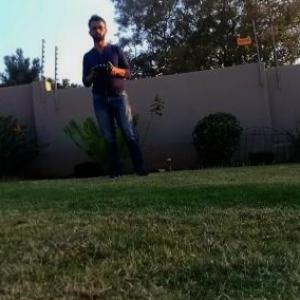follow: (80, 5, 156, 182)
